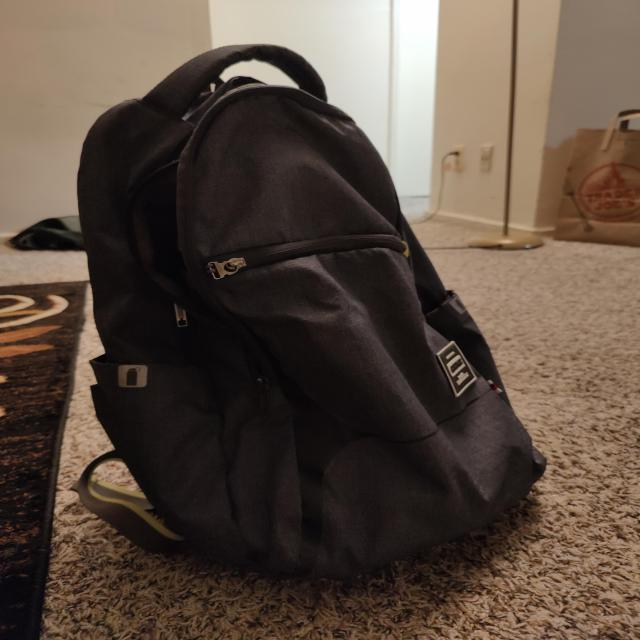bag: (105, 47, 552, 540)
